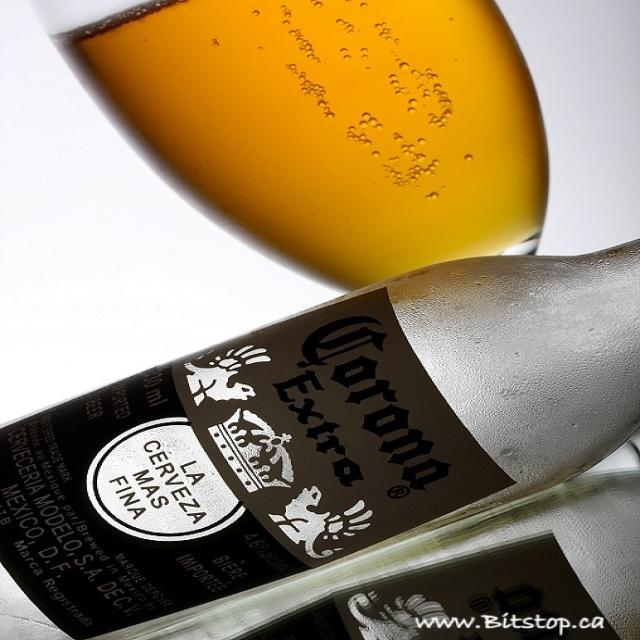corona: (3, 287, 517, 640)
